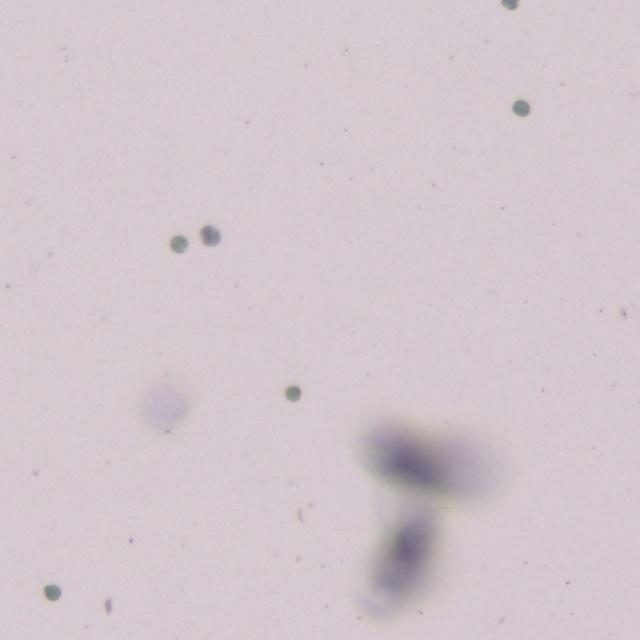non_viable: (200, 225, 220, 245), (170, 235, 188, 253), (44, 584, 61, 601), (512, 100, 530, 116), (285, 385, 300, 401), (501, 0, 519, 10)
